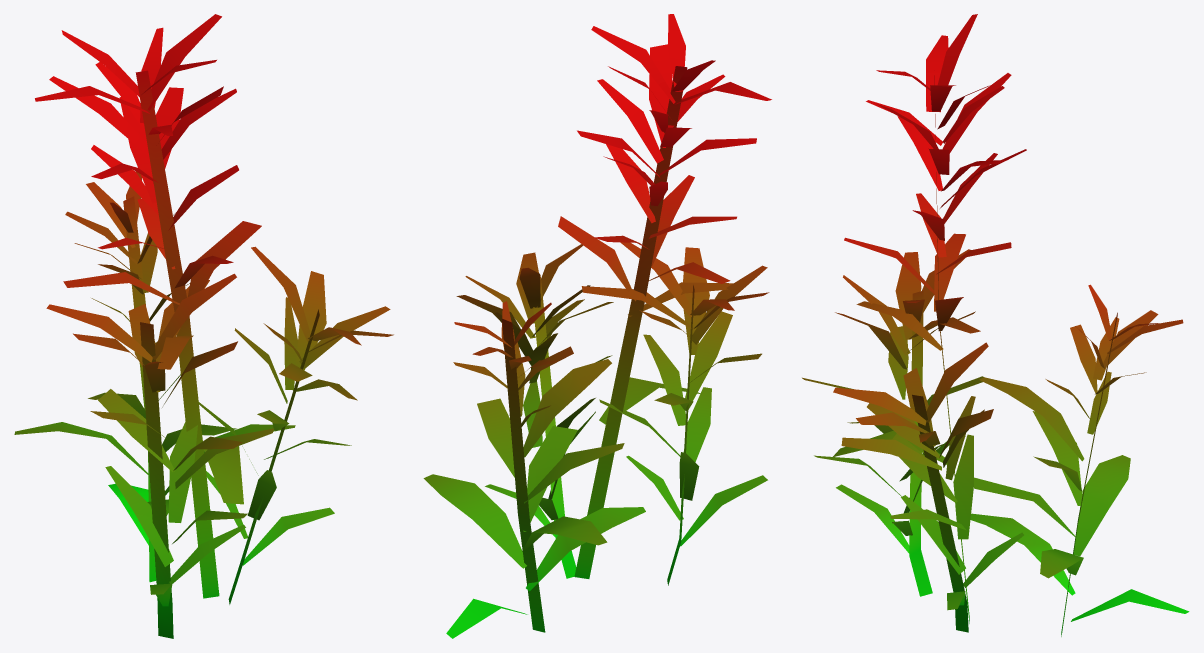
Rendered from Goldenrods_LOD6_Var7.fbx.
3 views of the same model, side by side, from view 1: azimuth 30°, elevation 25°; view 2: azimuth 150°, elevation 25°; view 3: azimuth 270°, elevation 25° (orthographic). The views are drawn at different scales.
Visible parts, largest first — view 1: _vni3_Var7_LOD6; view 2: _vni3_Var7_LOD6; view 3: _vni3_Var7_LOD6.
Boxes of the visible parts, box(x1,y1,x2,y2) form: _vni3_Var7_LOD6: box(14, 14, 393, 638); _vni3_Var7_LOD6: box(423, 14, 771, 638); _vni3_Var7_LOD6: box(802, 14, 1189, 636).
Bounding box in the file's own units: 50.68 × 87.28 × 54.89.
